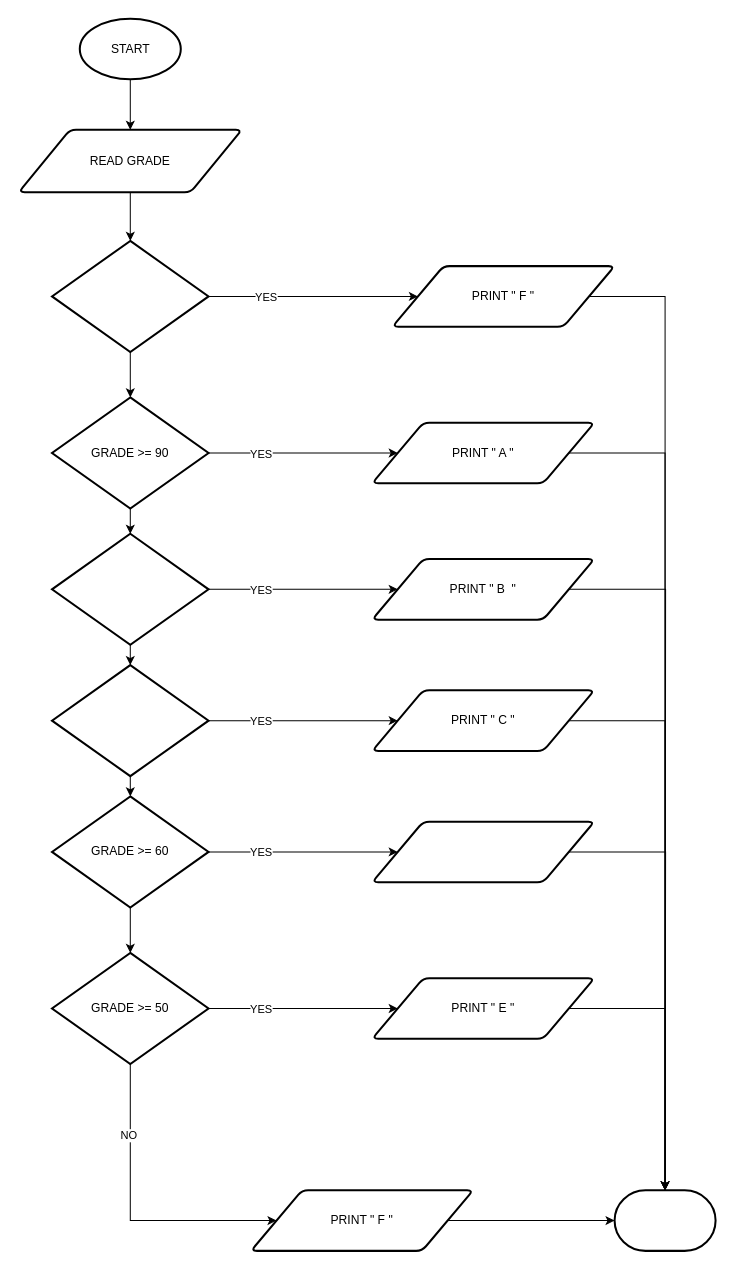
Some shapes in this 733 by 1269 pixel diagram are drawn without their labels. Here are the shapes that lost their labels. From the top down, the box of each, then its label:
(50, 239, 209, 352): GRADE > 100
(50, 532, 209, 645): GRADE >= 80
(50, 664, 209, 777): GRADE >= 70
(371, 820, 595, 883): PRINT " D "
(613, 1189, 716, 1251): END
